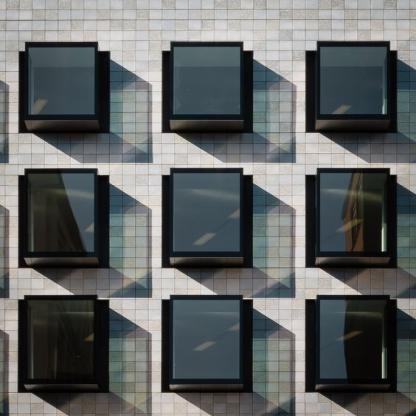Building Outline: (0, 0, 416, 416)
Facade: (0, 0, 416, 416)
Floor: (0, 0, 416, 144), (0, 155, 416, 279), (0, 290, 416, 404)
Floor Slab: (0, 404, 416, 416), (0, 144, 416, 155), (0, 279, 416, 290)
Window: (320, 173, 387, 252), (27, 300, 94, 379), (320, 300, 387, 379), (173, 173, 240, 251), (28, 173, 94, 252), (173, 300, 239, 379), (320, 47, 387, 114), (174, 47, 240, 114), (29, 48, 94, 115)
Window Outline: (316, 168, 391, 268), (170, 168, 244, 268), (24, 169, 98, 269), (24, 295, 99, 393), (316, 295, 391, 392), (170, 295, 244, 393), (316, 42, 391, 133), (170, 41, 244, 132), (25, 41, 99, 132)
